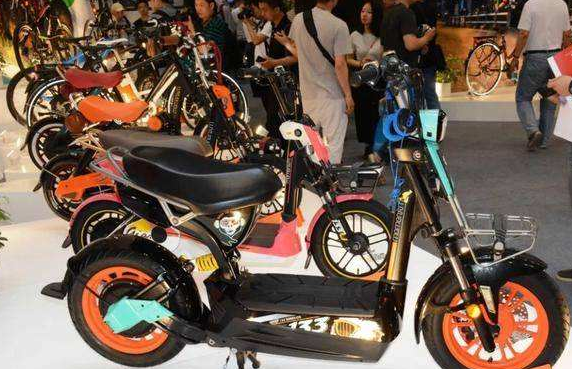motor: (72, 112, 544, 369)
